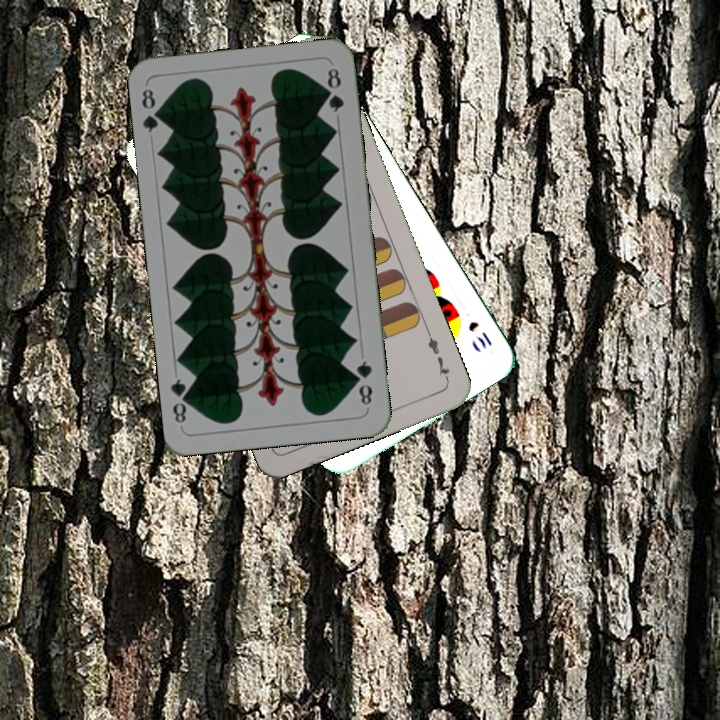E7: (423, 327, 452, 384)
G8: (137, 84, 166, 136), (351, 357, 375, 408)
S10: (464, 317, 495, 352)
